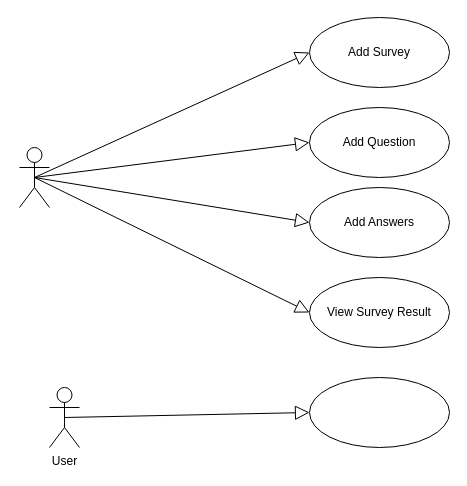
This 467x486 diagram has some shape labels left out. The shapes that lost their labels are listed below. From the top down, each one's centre as x and y in pixels, then its label:
point 34,177: Admin
point 379,412: Take Survey
